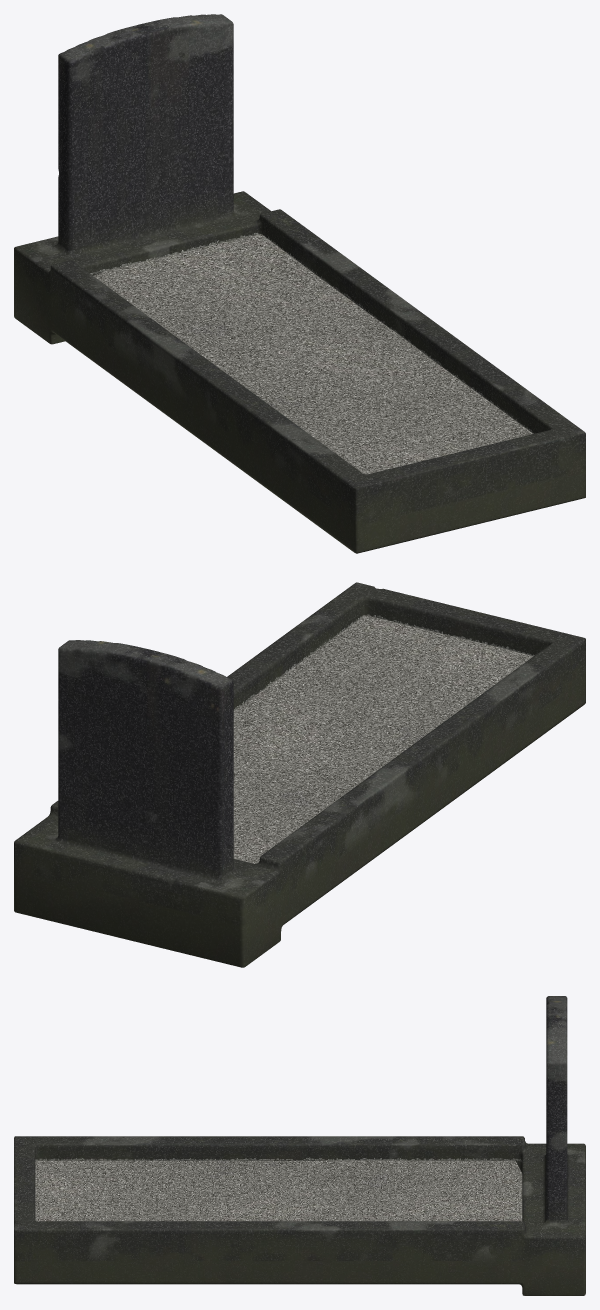
Rendered from kerb.glb.
3 renders of one model, top to bottom at view 1: azimuth 30°, elevation 25°; view 2: azimuth 150°, elevation 25°; view 3: azimuth 270°, elevation 25°, orthographic. The views are drawn at different scales.
Visible parts, largest first — view 1: kerb_a; view 2: kerb_a; view 3: kerb_a.
Part boxes in pixels (x1,y1,x2,y2): kerb_a: [14, 14, 585, 553]; kerb_a: [14, 582, 585, 967]; kerb_a: [14, 996, 585, 1295].
Size of the model in its own units: 0.84 by 0.9538 by 2.16.
2 materials, 2 textured.
